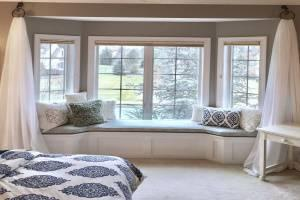window: (36, 36, 263, 120)
